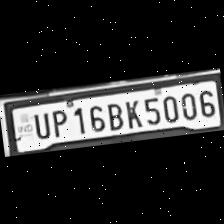0: (158, 90, 180, 124), (176, 88, 198, 120)
1: (66, 104, 88, 136)
5: (139, 94, 161, 125)
6: (194, 86, 216, 119), (84, 102, 106, 132)
B: (103, 99, 124, 130)
K: (120, 96, 142, 129)
P: (47, 106, 70, 138)
U: (27, 108, 51, 140)
